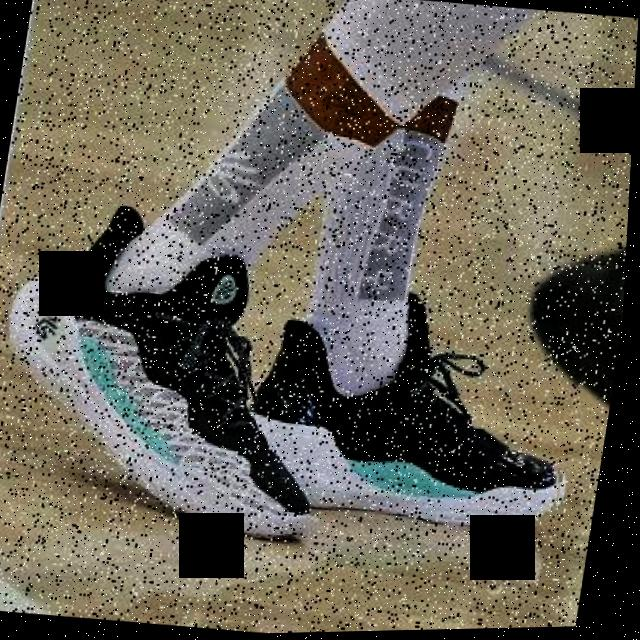shoe: (0, 192, 367, 549), (233, 277, 600, 543)
